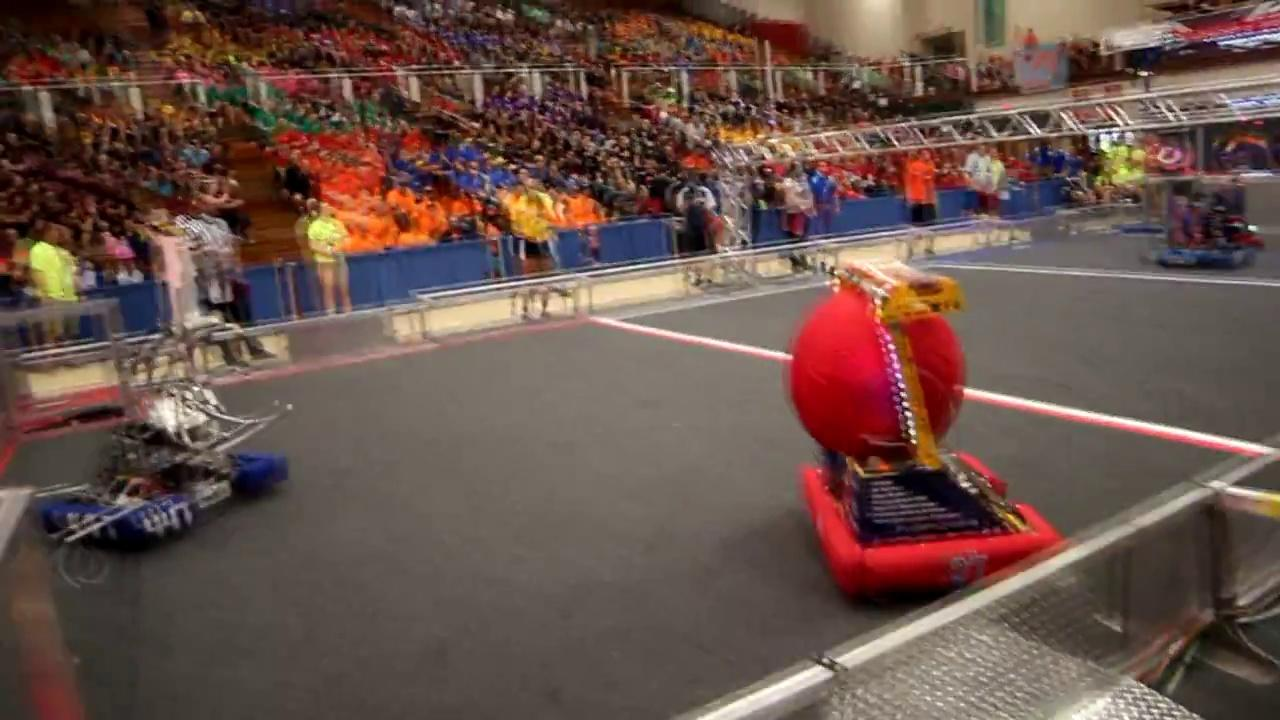robot: (769, 242, 1078, 610), (20, 318, 305, 557), (1143, 171, 1268, 272)
